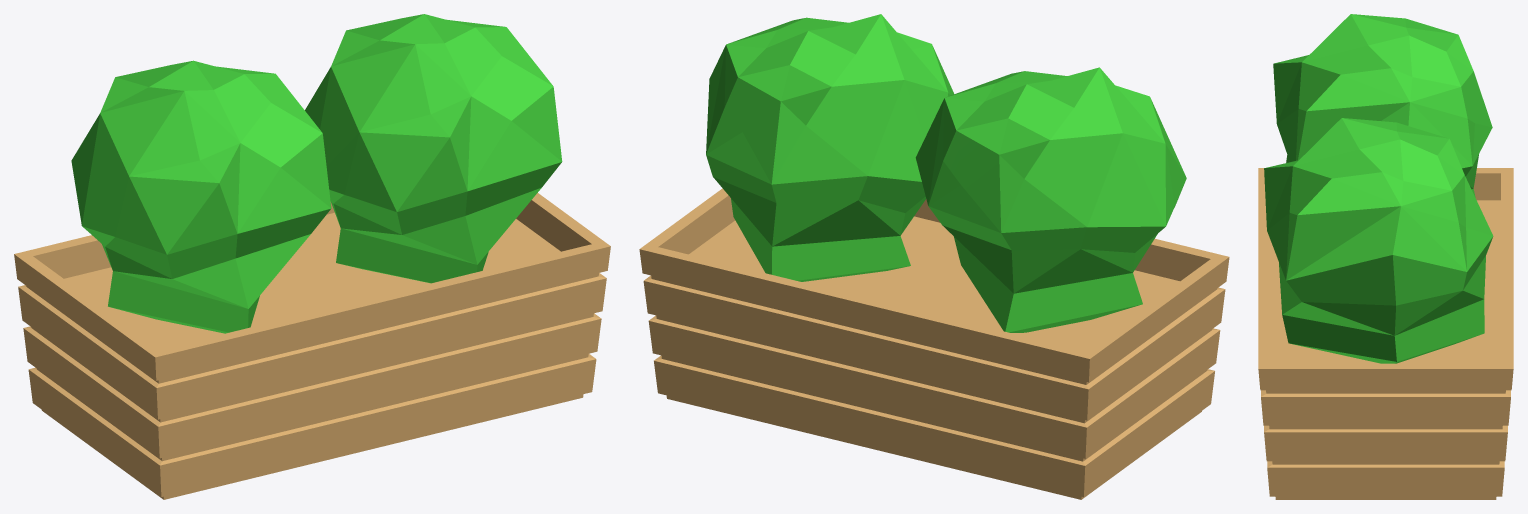
The model's file is Ding Dong Delivery Bushes Planter.fbx.
3 views of the same model, side by side, from view 1: azimuth 30°, elevation 25°; view 2: azimuth 150°, elevation 25°; view 3: azimuth 270°, elevation 25° (orthographic). The views are drawn at different scales.
Visible parts, largest first — view 1: Cube_12_3, Sphere_1_10, Sphere_10; view 2: Cube_12_3, Sphere_1_10, Sphere_10; view 3: Cube_12_3, Sphere_10, Sphere_1_10.
Part boxes in pixels (left/top/right/bottom): Cube_12_3: left=14, top=193, right=610, bottom=499; Sphere_1_10: left=71, top=60, right=331, bottom=333; Sphere_10: left=305, top=14, right=562, bottom=283; Cube_12_3: left=639, top=188, right=1229, bottom=499; Sphere_1_10: left=915, top=67, right=1186, bottom=332; Sphere_10: left=706, top=14, right=953, bottom=281; Cube_12_3: left=1258, top=168, right=1513, bottom=499; Sphere_10: left=1264, top=118, right=1493, bottom=363; Sphere_1_10: left=1273, top=14, right=1492, bottom=197.
Bounding box in the file's own units: 118 × 88.81 × 62.54.
